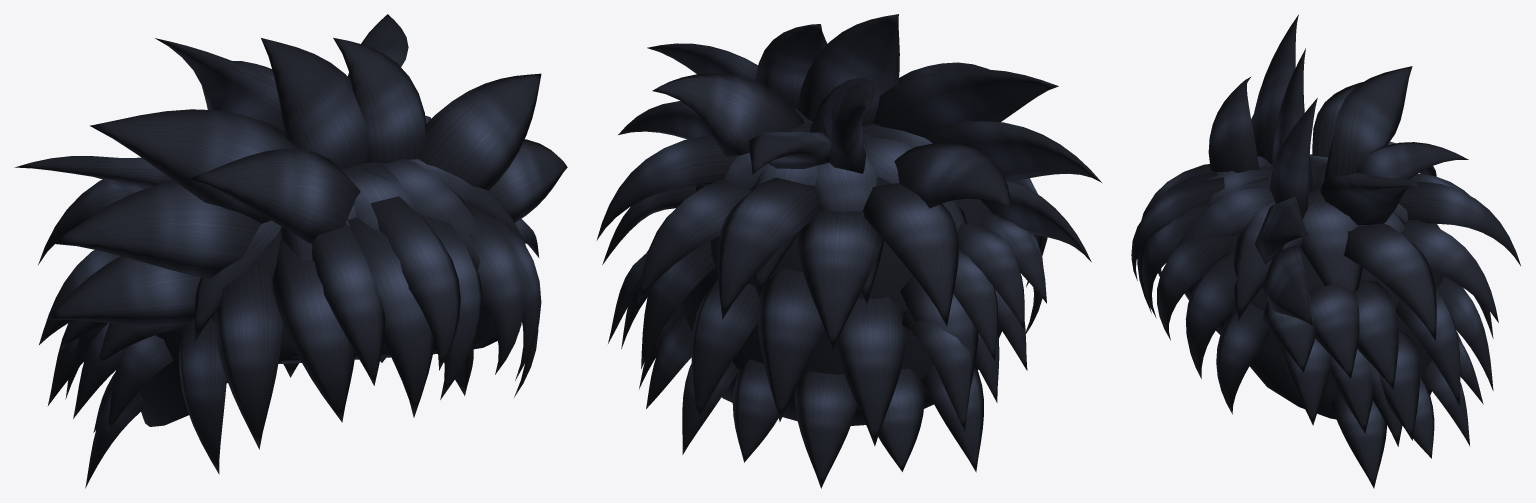
File: rblx_hype_hair.glb
3 renders of one model, left to right at view 1: azimuth 30°, elevation 25°; view 2: azimuth 150°, elevation 25°; view 3: azimuth 270°, elevation 25°, orthographic. The views are drawn at different scales.
Visible parts, largest first — view 1: RBLX_Hype_Hair; view 2: RBLX_Hype_Hair; view 3: RBLX_Hype_Hair.
Boxes of the visible parts, box(x1,y1,x2,y2) form: RBLX_Hype_Hair: box(14, 14, 567, 488); RBLX_Hype_Hair: box(596, 14, 1101, 488); RBLX_Hype_Hair: box(1131, 14, 1520, 488).
Bounding box in the file's own units: 1.99 × 1.62 × 1.65.
Materials: 1 (1 with a texture image).
